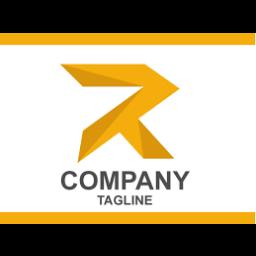a: (135, 168, 155, 194)
c: (60, 169, 78, 193)
m: (100, 168, 120, 190)
n: (156, 169, 172, 191)
p: (120, 169, 138, 191)
r: (80, 168, 98, 190)
y: (172, 169, 190, 191)
